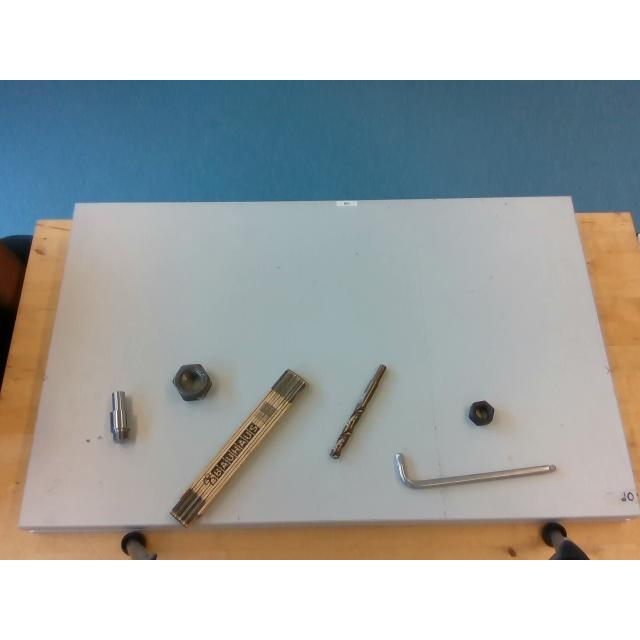AllenKey: (393, 452, 554, 488)
Axis2: (109, 390, 131, 442)
Drill: (329, 362, 386, 458)
M20: (468, 402, 494, 426)
M30: (172, 364, 212, 401)
